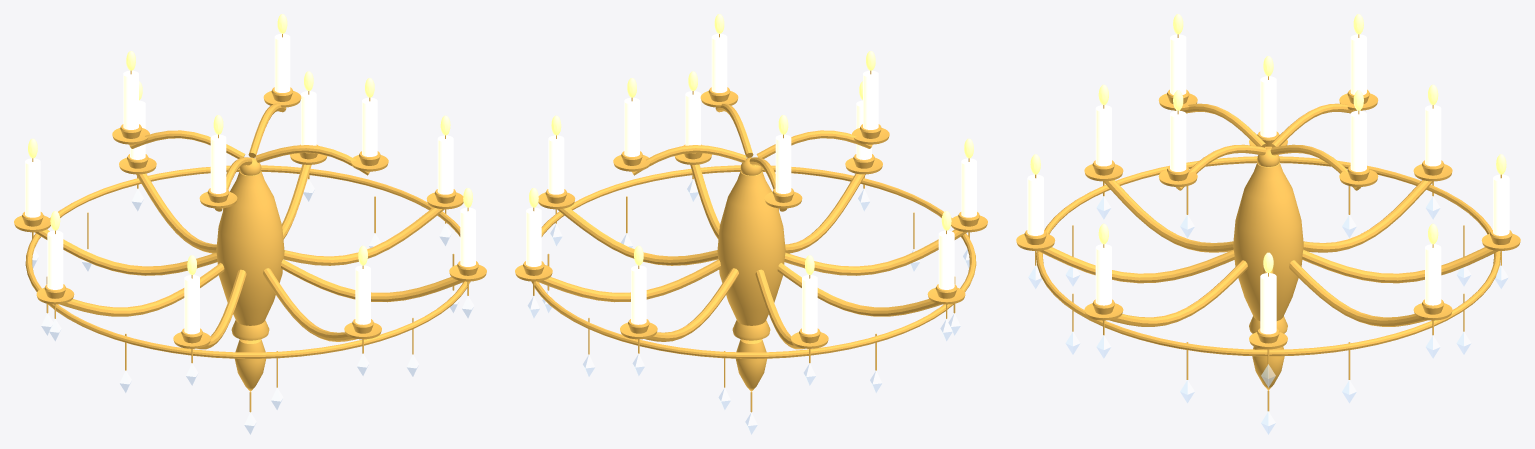
File: chandelier.glb
3 views of the same model, side by side, from view 1: azimuth 30°, elevation 25°; view 2: azimuth 150°, elevation 25°; view 3: azimuth 270°, elevation 25° (orthographic). The views are drawn at different scales.
Visible parts, largest first — view 1: Chandelier; view 2: Chandelier; view 3: Chandelier.
Part boxes in pixels (x1,y1,x2,y2): Chandelier: [14, 14, 486, 434]; Chandelier: [515, 14, 987, 434]; Chandelier: [1016, 14, 1520, 434].
Size of the model in its own units: 1.34 by 1.12 by 1.34.
